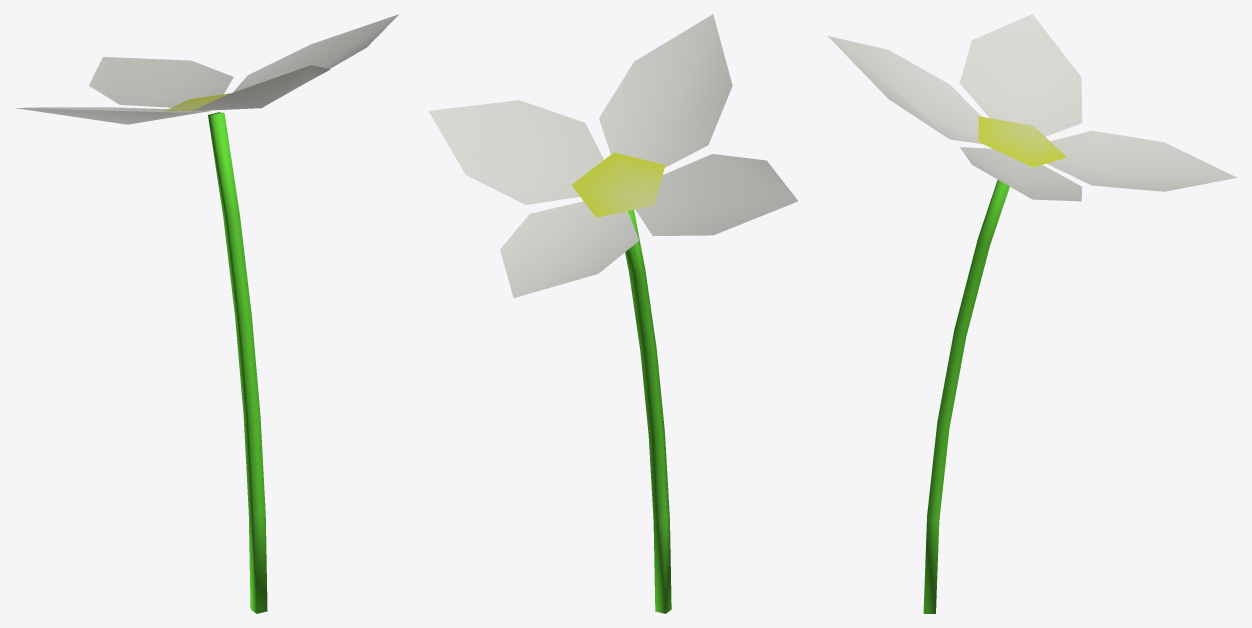
File: Flower.fbx
3 renders of one model, left to right at view 1: azimuth 30°, elevation 25°; view 2: azimuth 150°, elevation 25°; view 3: azimuth 270°, elevation 25°, orthographic. The views are drawn at different scales.
Visible parts, largest first — view 1: Plane.002; view 2: Plane.002; view 3: Plane.002.
Part boxes in pixels (box(x1,y1,x2,y2)): Plane.002: box(15, 14, 399, 613); Plane.002: box(428, 14, 797, 613); Plane.002: box(828, 14, 1237, 613).
Size of the model in its own units: 35.76 by 51.71 by 33.41.
